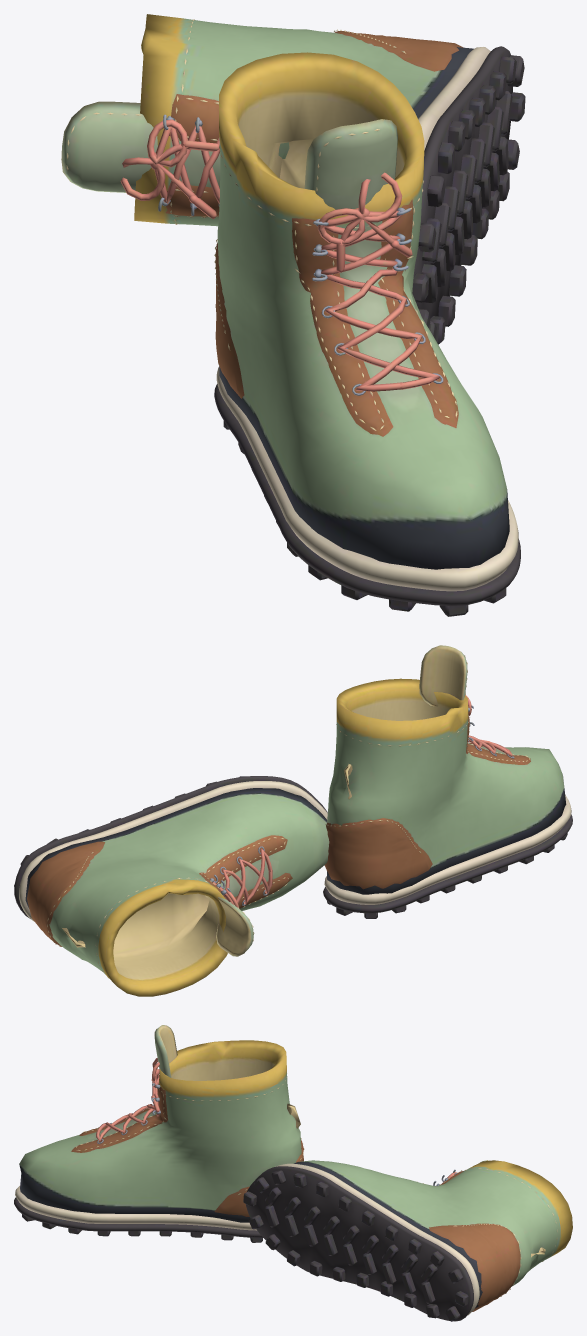
File: hiking-boots.glb
The picture shows the model from 3 angles, top to bottom: view 1: azimuth 30°, elevation 25°; view 2: azimuth 150°, elevation 25°; view 3: azimuth 270°, elevation 25°; orthographic projection. The views are drawn at different scales.
Parts seen in each view (by area): view 1: hiking-boots_body; view 2: hiking-boots_body; view 3: hiking-boots_body.
Boxes of the visible parts, left/top/right/bottom form: hiking-boots_body: left=61, top=14, right=525, bottom=616; hiking-boots_body: left=14, top=645, right=572, bottom=996; hiking-boots_body: left=14, top=1025, right=572, bottom=1321.
Bounding box in the file's own units: 0.344 × 0.213 × 0.5675.
Materials: 1 (1 with a texture image).
